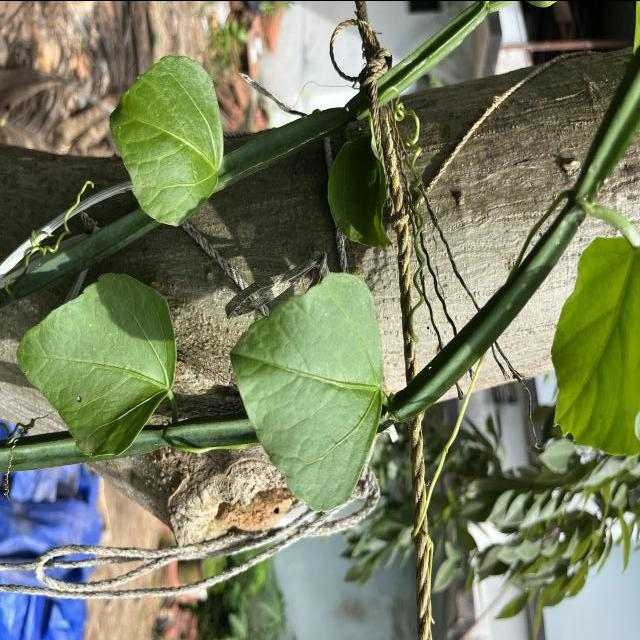Cissus quadrangularis: (13, 268, 181, 459), (106, 52, 226, 228)
